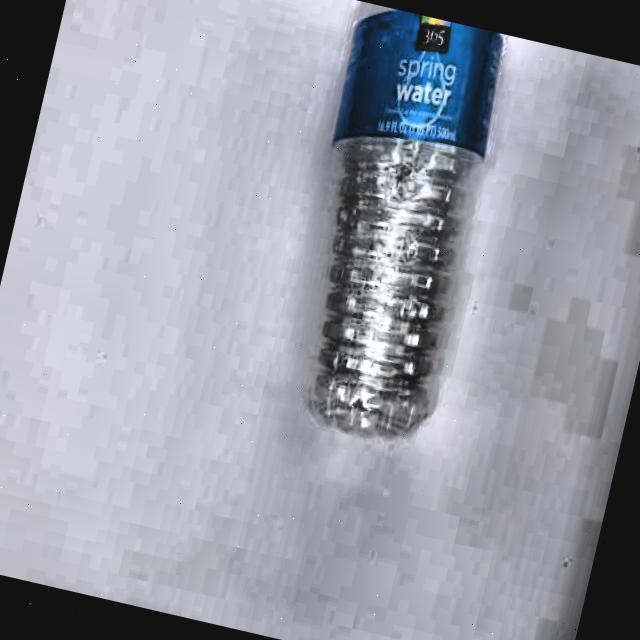plastic: (261, 0, 530, 454)
